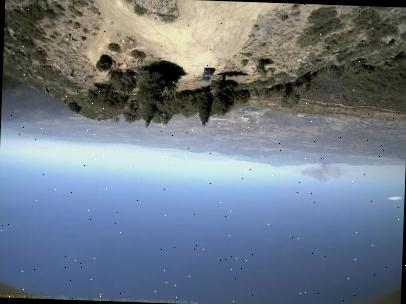smoke: (298, 153, 351, 185)
